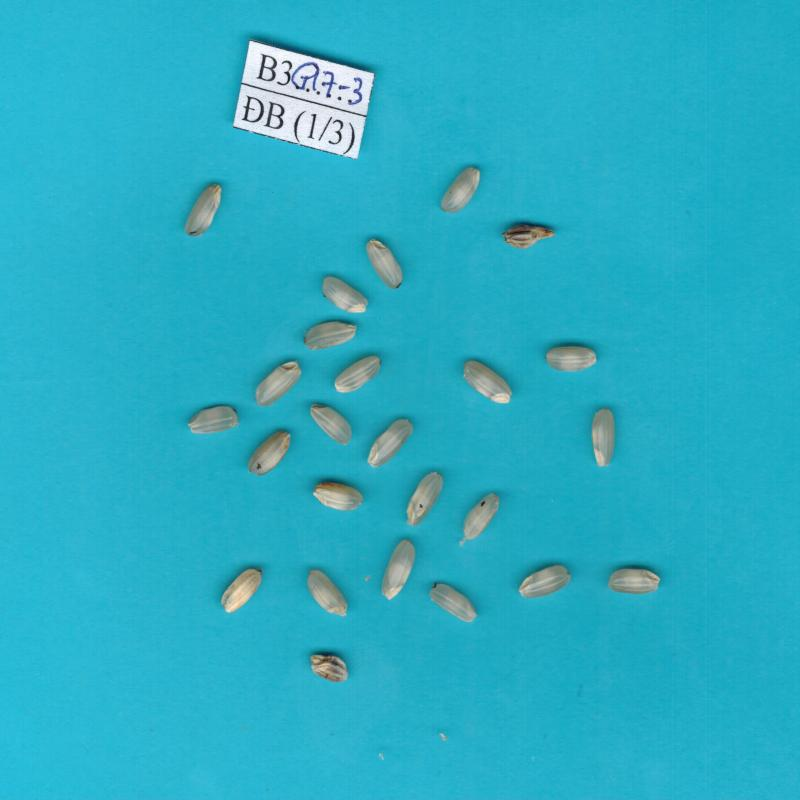Inferior: (221, 569, 262, 613), (505, 224, 555, 249), (310, 655, 348, 682)
Rice: (367, 419, 413, 467), (463, 360, 512, 403), (255, 361, 301, 406), (382, 540, 415, 599), (185, 185, 221, 237), (249, 431, 290, 476), (407, 473, 442, 525), (367, 239, 403, 289), (441, 167, 480, 213), (430, 583, 476, 622), (308, 570, 347, 615), (520, 565, 571, 598), (335, 356, 380, 393), (322, 277, 367, 313), (311, 405, 352, 444), (464, 494, 498, 540), (188, 406, 239, 434), (313, 482, 362, 511), (591, 409, 615, 467), (304, 322, 355, 349), (608, 569, 660, 594), (546, 346, 596, 371)
